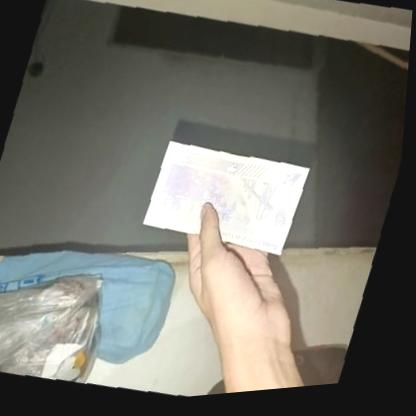two_hundred-back-vef: (140, 132, 318, 273)
